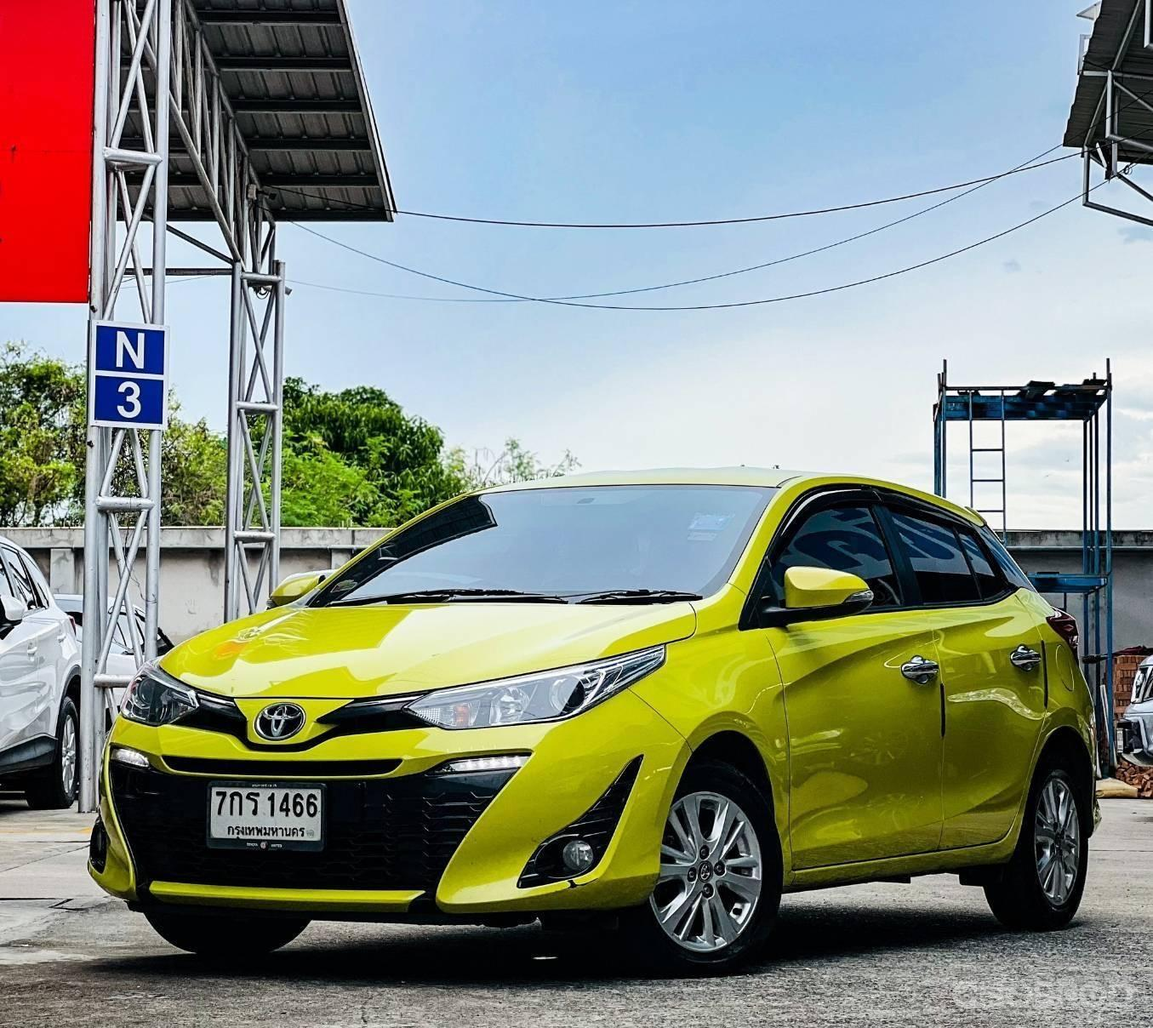license-plate: (203, 773, 331, 851)
